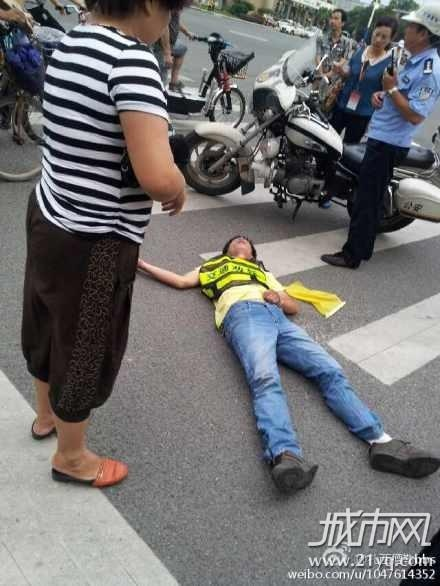falling: (128, 218, 440, 502)
